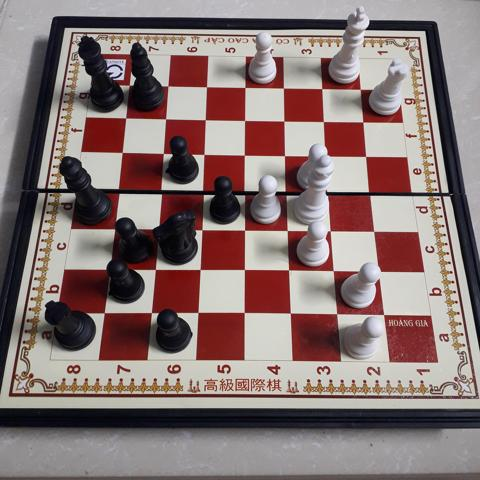xcorner: (143, 304, 160, 321), (279, 182, 296, 199), (190, 305, 207, 321), (237, 305, 254, 321), (377, 306, 393, 323), (282, 262, 299, 278), (327, 262, 344, 278), (372, 263, 389, 279), (105, 219, 122, 235), (149, 219, 166, 235), (193, 220, 210, 236), (324, 221, 341, 237), (364, 183, 380, 200), (113, 144, 130, 160), (278, 146, 294, 163), (316, 113, 333, 129), (198, 79, 214, 96), (314, 81, 330, 98), (96, 304, 112, 320), (284, 306, 300, 322), (331, 306, 347, 322), (101, 260, 117, 276), (147, 260, 163, 276), (192, 261, 208, 277), (237, 261, 253, 277), (237, 220, 253, 236), (281, 221, 297, 237), (368, 222, 384, 238), (110, 180, 126, 196), (152, 181, 168, 197), (195, 181, 211, 197), (237, 182, 253, 198), (322, 183, 338, 199), (155, 145, 171, 161), (196, 145, 212, 161), (237, 146, 253, 162), (319, 147, 335, 163), (360, 148, 376, 164), (117, 110, 133, 126), (157, 111, 173, 127), (197, 111, 213, 127), (237, 112, 253, 128), (277, 113, 293, 129), (356, 114, 372, 130), (121, 78, 137, 94), (160, 79, 176, 95), (237, 80, 253, 96), (276, 81, 292, 97), (352, 82, 368, 98)
